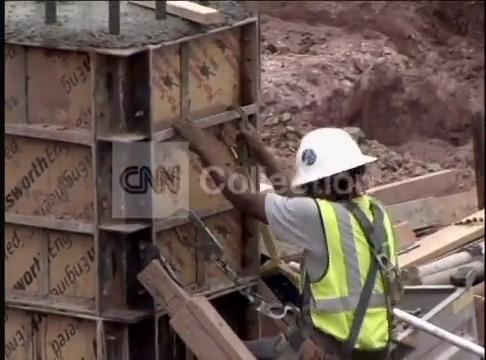Helmet: (283, 131, 370, 180)
Person: (195, 90, 427, 360)
Safety Vest: (313, 207, 402, 344)
bare-arms: (237, 113, 273, 163), (172, 118, 205, 146)
